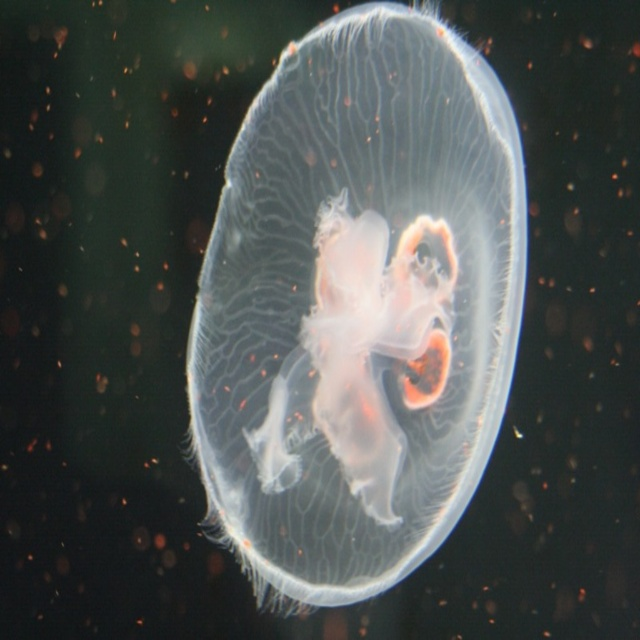Jellyfish: (173, 0, 530, 622)
